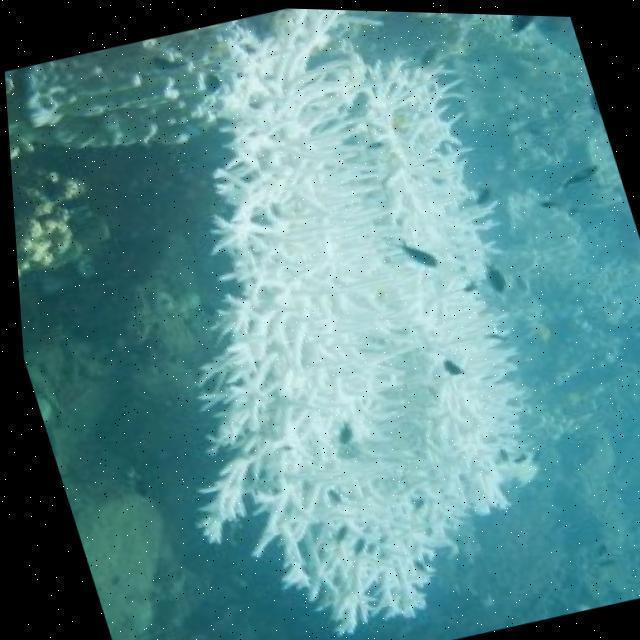Bleached Coral: (189, 0, 542, 633)
